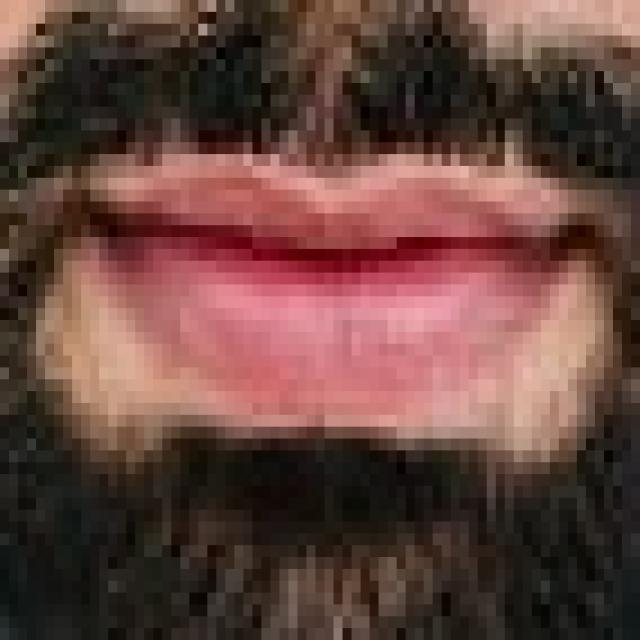closed-mouth: (54, 130, 613, 450)
